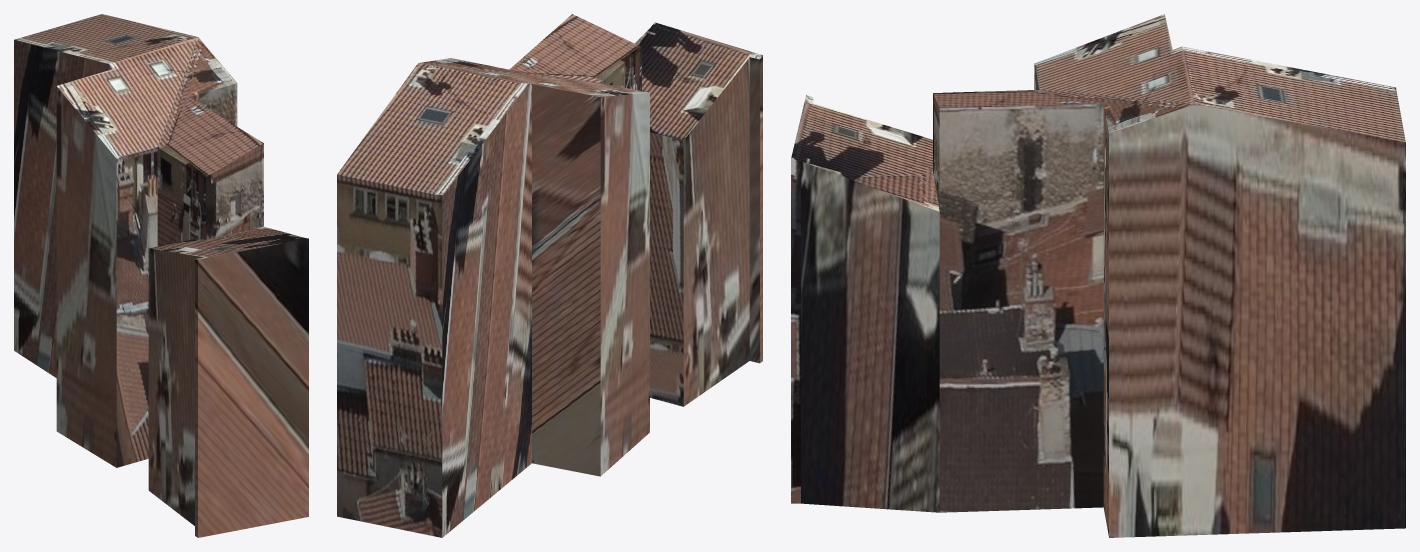
The picture shows the model from 3 angles, left to right: view 1: azimuth 30°, elevation 25°; view 2: azimuth 150°, elevation 25°; view 3: azimuth 270°, elevation 25°; orthographic projection. The views are drawn at different scales.
Visible parts, largest first — view 1: Z_UP; view 2: Z_UP; view 3: Z_UP.
Part boxes in pixels (box(x1,y1,x2,y2)): Z_UP: box(14, 14, 308, 537); Z_UP: box(337, 14, 762, 537); Z_UP: box(791, 14, 1405, 537).
Bounding box in the file's own units: 9.53 × 19.59 × 25.32.
2 materials, 1 textured.
